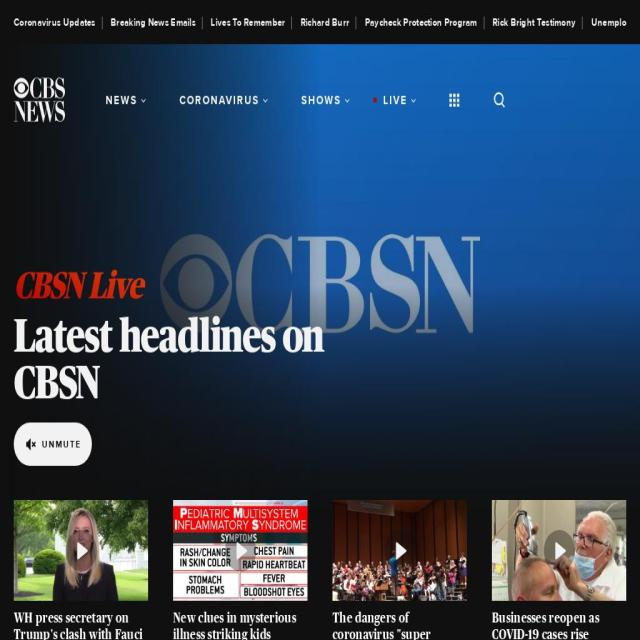button: (0, 44, 640, 525), (173, 500, 308, 640), (332, 500, 467, 640), (14, 500, 148, 640), (492, 500, 626, 640), (166, 87, 273, 113), (287, 87, 355, 113), (92, 87, 151, 113), (369, 87, 422, 113), (364, 17, 478, 29), (111, 17, 196, 29), (492, 17, 576, 29), (14, 17, 96, 29), (210, 17, 286, 29), (590, 16, 640, 29), (300, 17, 350, 29)
heading: (173, 609, 308, 640), (332, 609, 467, 640), (14, 609, 148, 640), (492, 609, 626, 640)
iframe: (0, 44, 640, 525)
image: (173, 500, 308, 602), (332, 500, 467, 602), (14, 500, 148, 602), (492, 500, 626, 602)
text: (364, 16, 478, 29), (180, 91, 260, 108), (111, 16, 196, 29), (492, 16, 576, 29), (14, 16, 96, 29), (210, 16, 286, 29), (590, 15, 640, 29), (301, 91, 341, 108), (300, 16, 350, 29), (106, 91, 138, 108), (383, 91, 408, 108)
